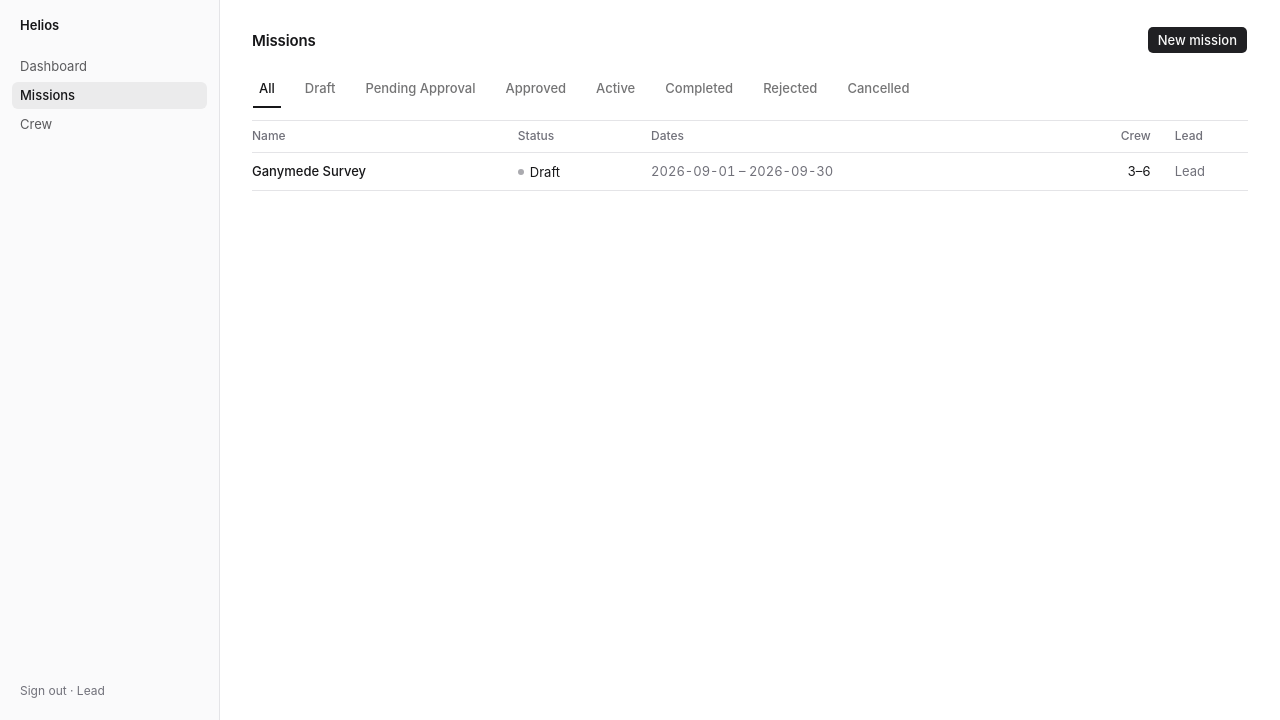
Test case: missions list › lists missions and opens the create dialog
Check: the link "Ganymede Survey" is shown, box 252,163 -> 366,179
Click the button "New mission" at (1197, 40), box 1147,26 -> 1248,54
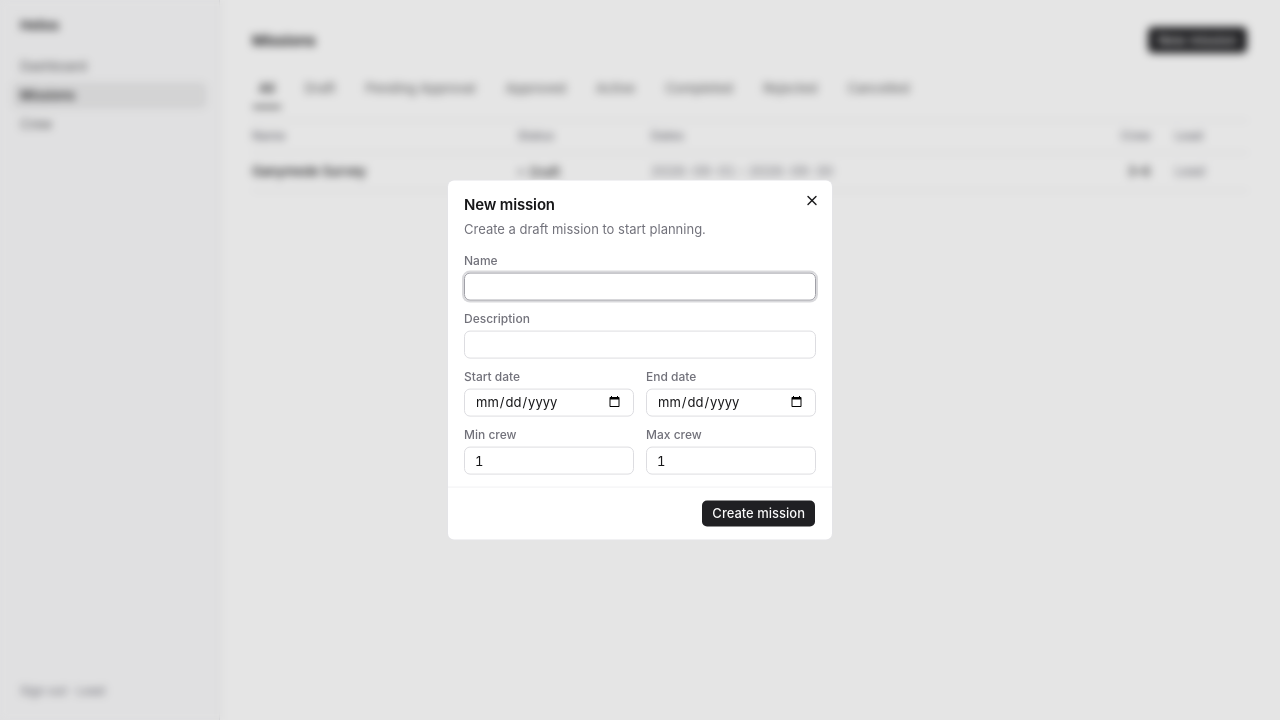
Check: the field labelled "Name" is shown, box 464,272 -> 816,300
